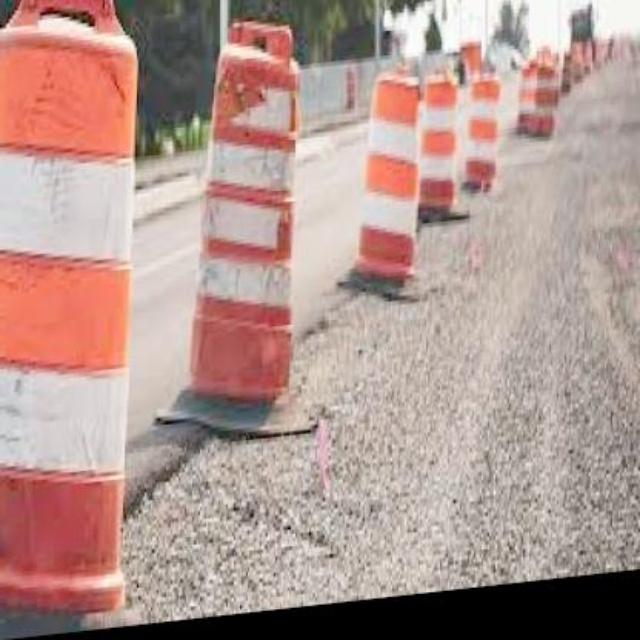obstacle: (182, 35, 307, 415), (347, 86, 424, 285)
